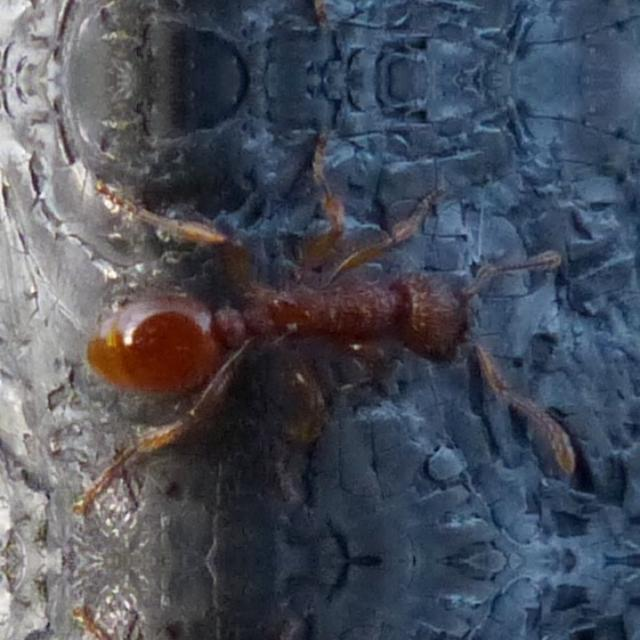Myrmica: (60, 186, 508, 444)
